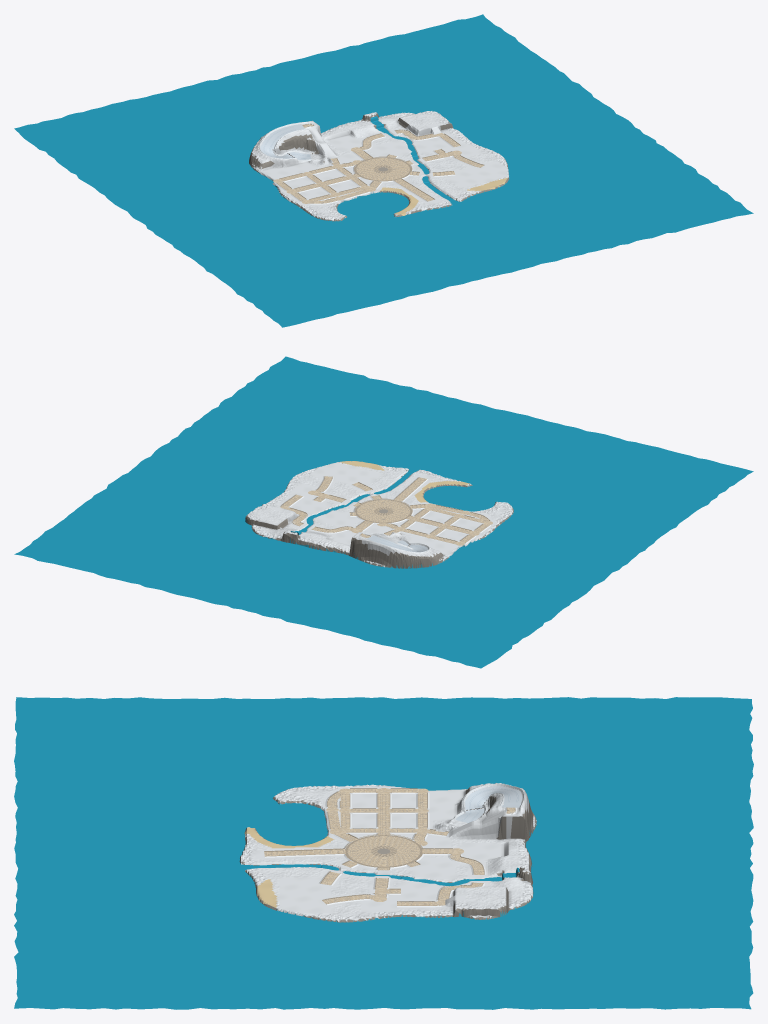
Rendered from town_terrain.glb.
3 views of the same model, one above another, from view 1: azimuth 30°, elevation 25°; view 2: azimuth 150°, elevation 25°; view 3: azimuth 270°, elevation 25° (orthographic). The views are drawn at different scales.
Visible parts, largest first — view 1: water, town_terrain, terrain_paths, terrain_sled_track, water_stream; view 2: water, town_terrain, terrain_paths, water_stream, terrain_sled_track; view 3: water, town_terrain, terrain_paths, terrain_sled_track, water_stream.
Boxes of the visible parts, x1=… form: water: x1=14, y1=14, x2=753, y2=327; town_terrain: x1=249, y1=111, x2=509, y2=221; terrain_paths: x1=273, y1=123, x2=484, y2=204; terrain_sled_track: x1=259, y1=122, x2=311, y2=161; water_stream: x1=370, y1=116, x2=462, y2=205; water: x1=14, y1=356, x2=753, y2=668; town_terrain: x1=245, y1=461, x2=513, y2=568; terrain_paths: x1=280, y1=476, x2=492, y2=545; water_stream: x1=291, y1=467, x2=419, y2=534; terrain_sled_track: x1=364, y1=534, x2=429, y2=552; water: x1=14, y1=697, x2=753, y2=1009; town_terrain: x1=239, y1=783, x2=536, y2=922; terrain_paths: x1=264, y1=788, x2=516, y2=907; terrain_sled_track: x1=453, y1=784, x2=524, y2=822; water_stream: x1=237, y1=864, x2=519, y2=886.
Bounding box in the file's own units: 181 × 10.12 × 181.
